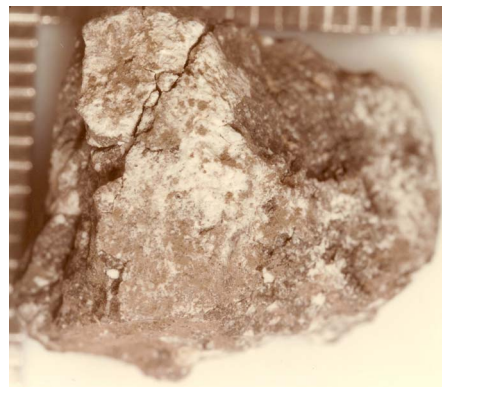Basalt: (60, 14, 399, 346), (112, 84, 380, 259)
